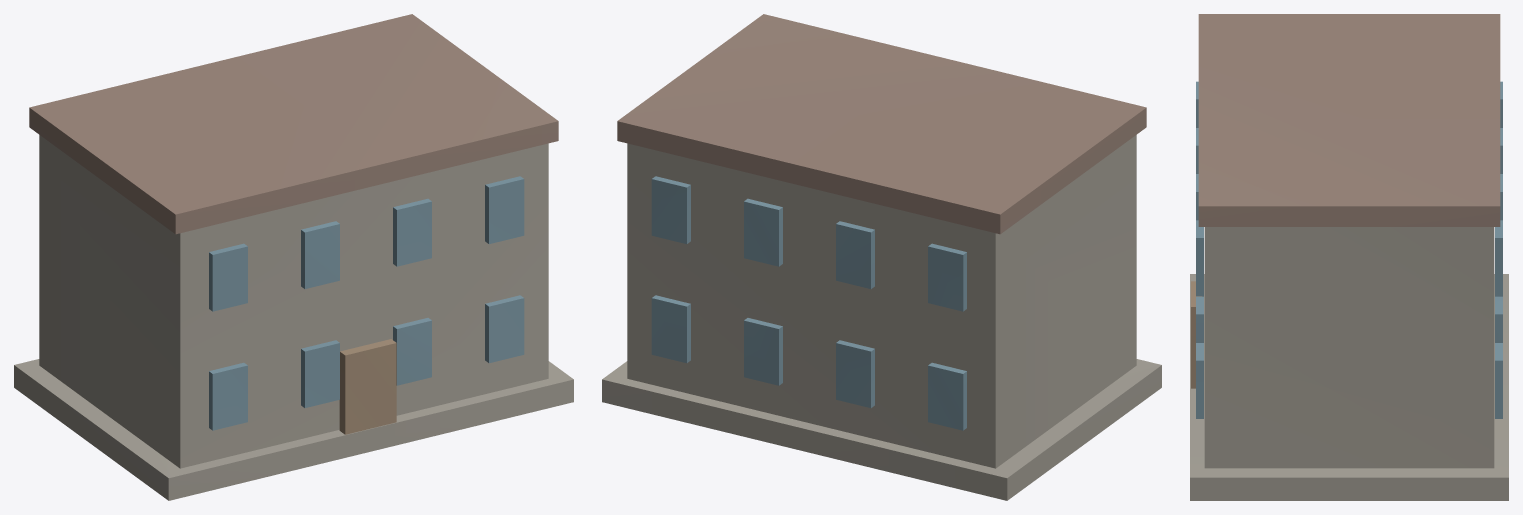
File: warehouse-02.glb
The picture shows the model from 3 angles, left to right: view 1: azimuth 30°, elevation 25°; view 2: azimuth 150°, elevation 25°; view 3: azimuth 270°, elevation 25°; orthographic projection. The views are drawn at different scales.
Parts seen in each view (by area): view 1: world; view 2: world; view 3: world.
Part boxes in pixels (x1,y1,x2,y2): world: (14, 14, 573, 500); world: (602, 14, 1161, 500); world: (1190, 14, 1508, 500).
Bounding box in the file's own units: 1.5 × 0.99 × 0.99.
